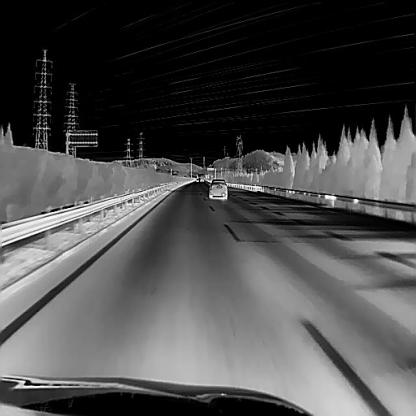car: (208, 178, 227, 199)
